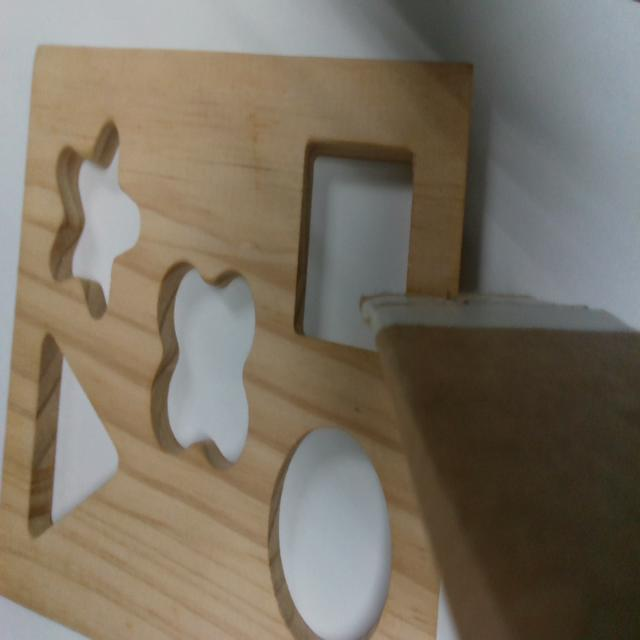circle: (271, 430, 392, 636)
flower: (152, 261, 256, 463)
square: (294, 142, 416, 351)
star: (51, 120, 141, 318)
triangle: (27, 331, 119, 537)
